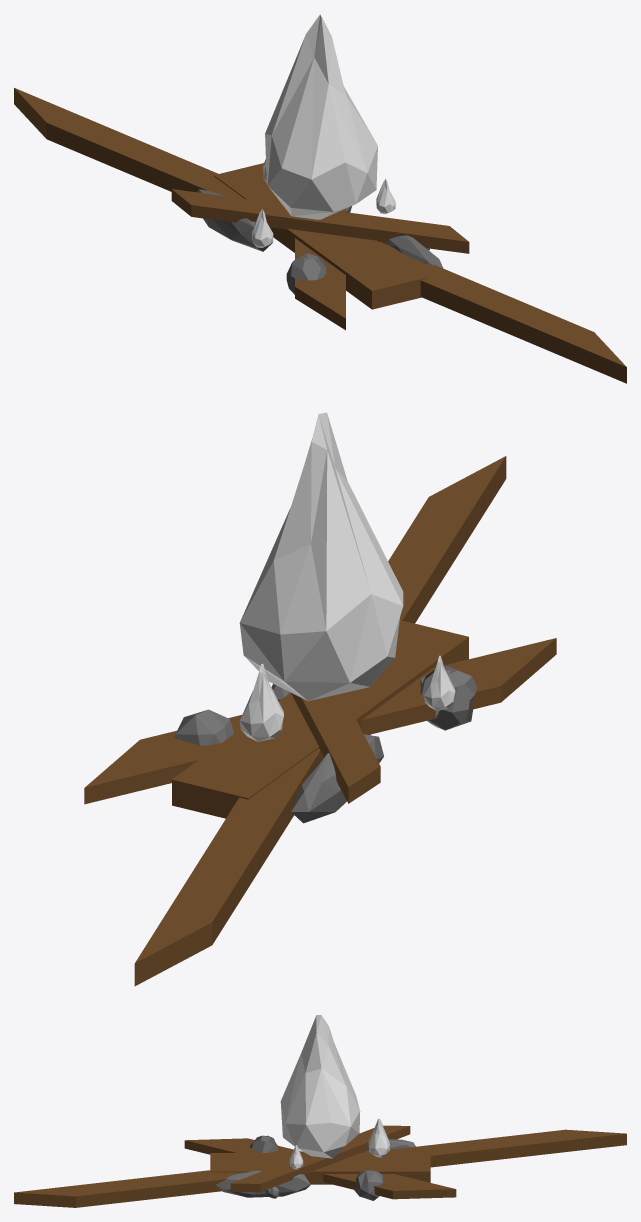
File: Campfire.fbx
3 renders of one model, top to bottom at view 1: azimuth 30°, elevation 25°; view 2: azimuth 150°, elevation 25°; view 3: azimuth 270°, elevation 25°, orthographic. The views are drawn at different scales.
Parts seen in each view (by area): view 1: Wood.002, Main Flame, Campfire, Wood, Wood.001, Rock.001, Rock, Rock.003, Small Flame; view 2: Main Flame, Wood.002, Campfire, Wood.001, Wood, Rock.001, Small Flame.002, Rock, Rock.004, Small Flame; view 3: Wood.002, Main Flame, Campfire, Wood.001, Wood, Rock.003, Rock.004, Small Flame.002, Rock.
Boxes of the visible parts, left/top/right/bottom form: Wood.002: left=14, top=88, right=626, bottom=383; Main Flame: left=265, top=14, right=377, bottom=219; Campfire: left=214, top=163, right=426, bottom=309; Wood: left=171, top=189, right=469, bottom=253; Wood.001: left=295, top=208, right=345, bottom=330; Rock.001: left=197, top=189, right=272, bottom=251; Rock: left=286, top=253, right=326, bottom=294; Rock.003: left=382, top=235, right=442, bottom=268; Small Flame: left=252, top=209, right=273, bottom=247; Main Flame: left=239, top=412, right=403, bottom=701; Wood.002: left=134, top=456, right=506, bottom=986; Campfire: left=172, top=620, right=468, bottom=818; Wood.001: left=84, top=638, right=556, bottom=804; Wood: left=290, top=692, right=380, bottom=803; Rock.001: left=291, top=734, right=383, bottom=823; Small Flame.002: left=239, top=664, right=283, bottom=741; Rock: left=420, top=666, right=476, bottom=730; Rock.004: left=175, top=709, right=233, bottom=745; Small Flame: left=424, top=655, right=455, bottom=710; Wood.002: left=14, top=1129, right=626, bottom=1207; Main Flame: left=280, top=1015, right=360, bottom=1158; Campfire: left=210, top=1153, right=430, bottom=1184; Wood.001: left=184, top=1138, right=456, bottom=1199; Wood: left=230, top=1125, right=410, bottom=1192; Rock.003: left=216, top=1170, right=310, bottom=1197; Rock.004: left=354, top=1169, right=383, bottom=1200; Small Flame.002: left=368, top=1118, right=389, bottom=1157; Rock: left=249, top=1135, right=278, bottom=1152.
Size of the model in its own units: 143 by 169 by 556.
